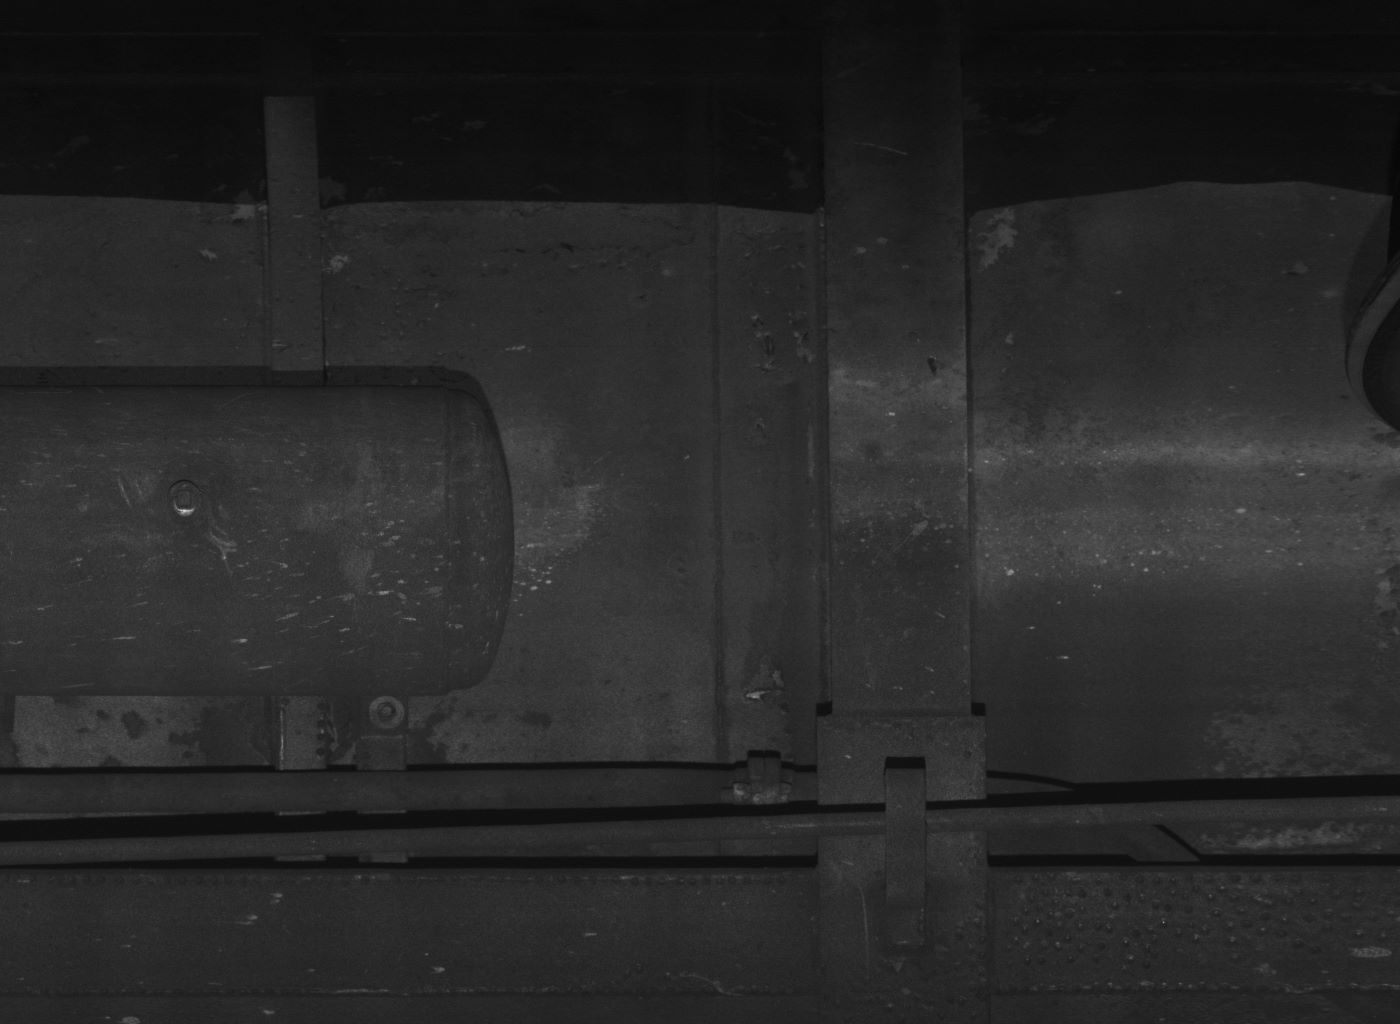normal: (885, 764, 929, 945)
